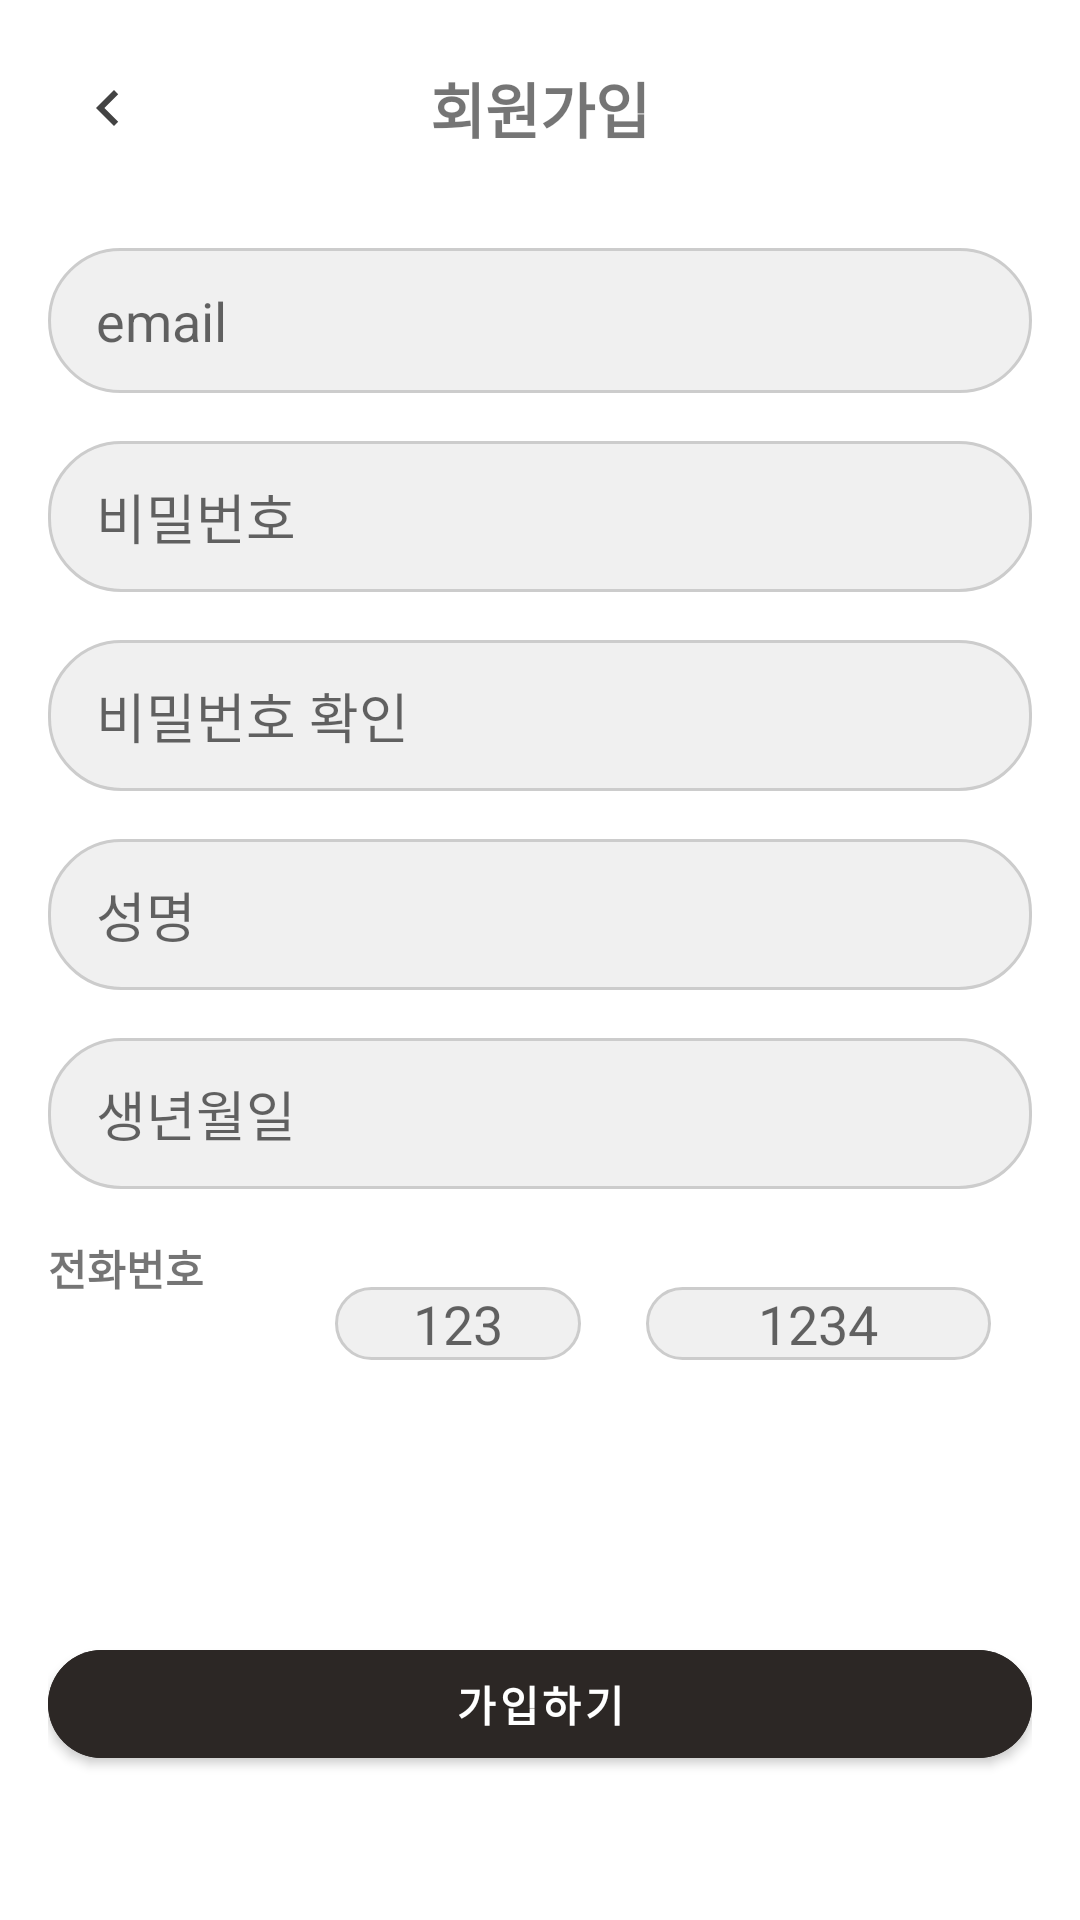

Named icons in this screenshot (1080×1920) and their bounding boxes, (x1, y1, x2, y2):
뒤로가기: (96, 90, 118, 126)
